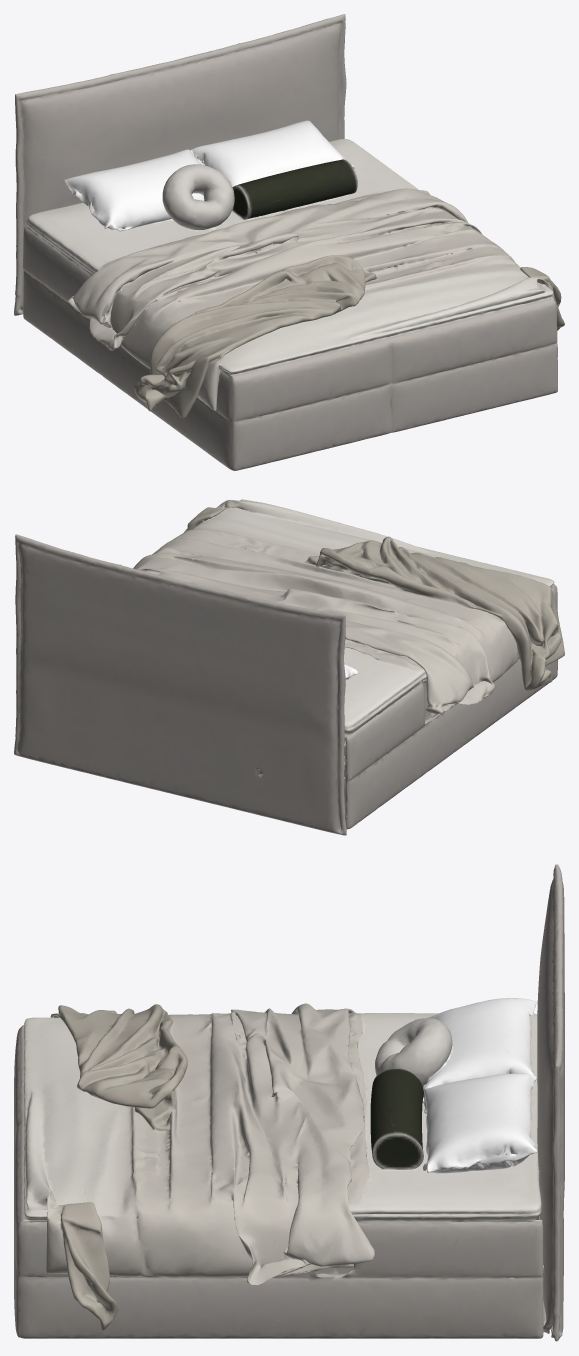
The model's file is light_grey_bed_zcf81b.glb.
3 renders of one model, top to bottom at view 1: azimuth 30°, elevation 25°; view 2: azimuth 150°, elevation 25°; view 3: azimuth 270°, elevation 25°, orthographic. The views are drawn at different scales.
Visible parts, largest first — view 1: world; view 2: world; view 3: world.
Part boxes in pixels (box(x1,y1,x2,y2)): world: box(14, 14, 564, 470); world: box(14, 499, 564, 835); world: box(14, 864, 564, 1341).
Size of the model in its own units: 1 by 0.5296 by 0.9563.
1 material, 1 textured.
